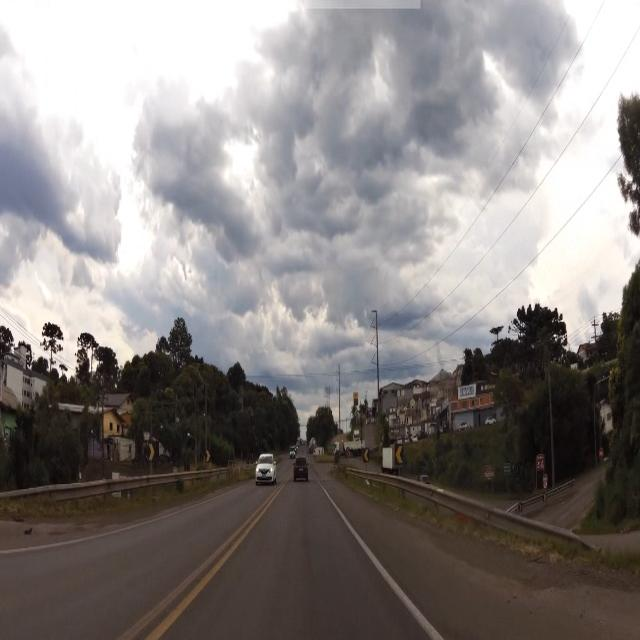Del: (396, 442, 404, 466), (363, 449, 369, 461)
